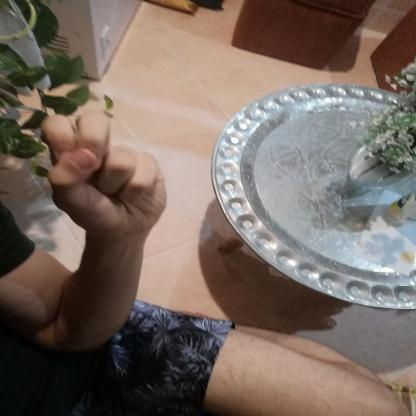QAAF: (22, 100, 186, 245)
